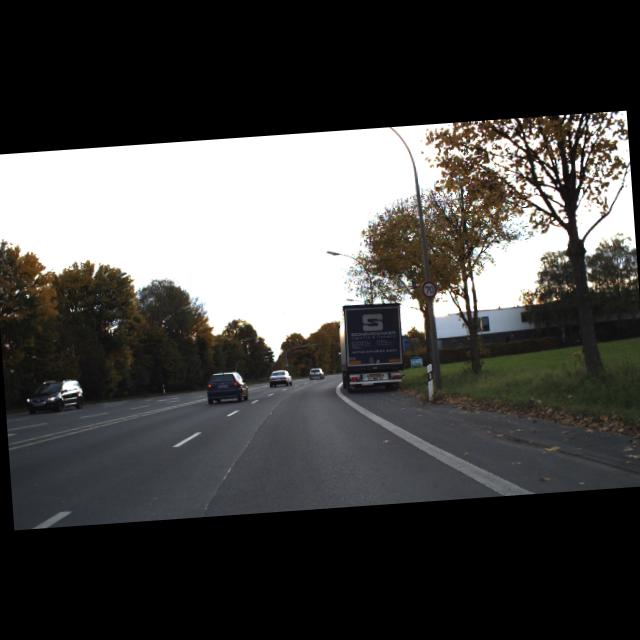prohibitory: (420, 280, 438, 299)
